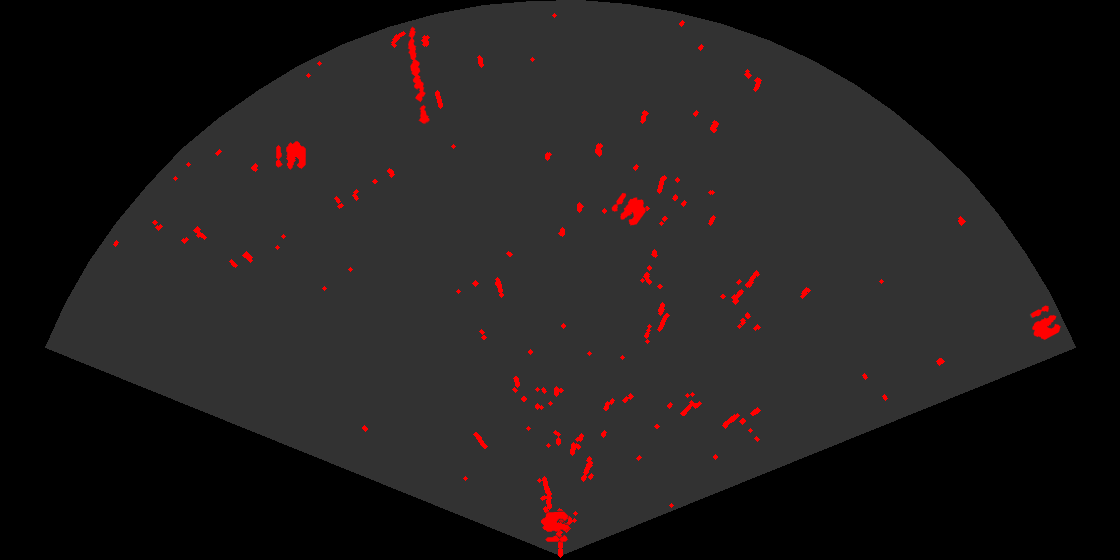ball: (610, 191, 647, 227), (1029, 304, 1062, 342), (539, 510, 571, 543), (274, 140, 307, 171)
chain: (406, 25, 431, 127)
